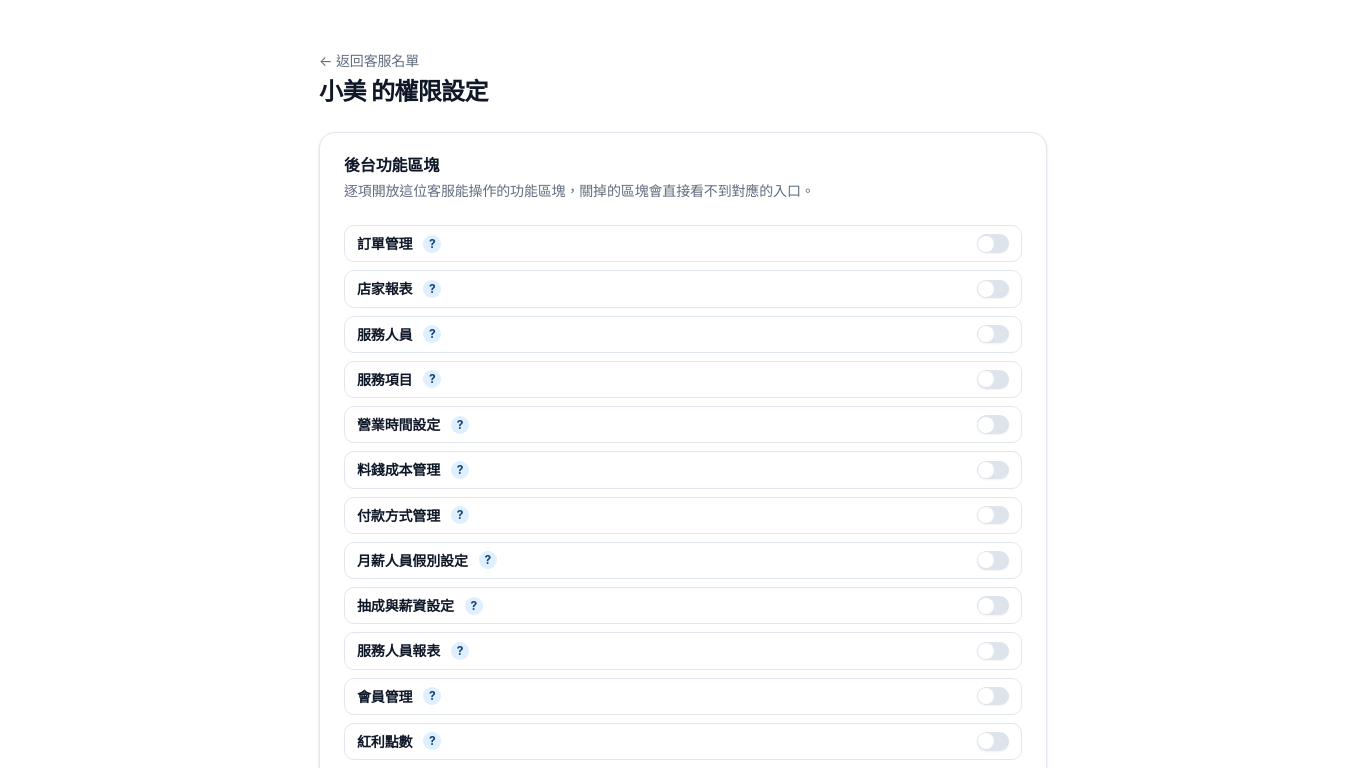
Test: 第 11 批 E:相依權限小卡窗 › ⑧ 點 `?` 不會切換開關、不會跳相依小卡窗
The width and height of the screenshot is (1366, 768).
Click the button named "說明：料錢成本管理".
click(460, 470)  # box x1=444 y1=454 x2=476 y2=486
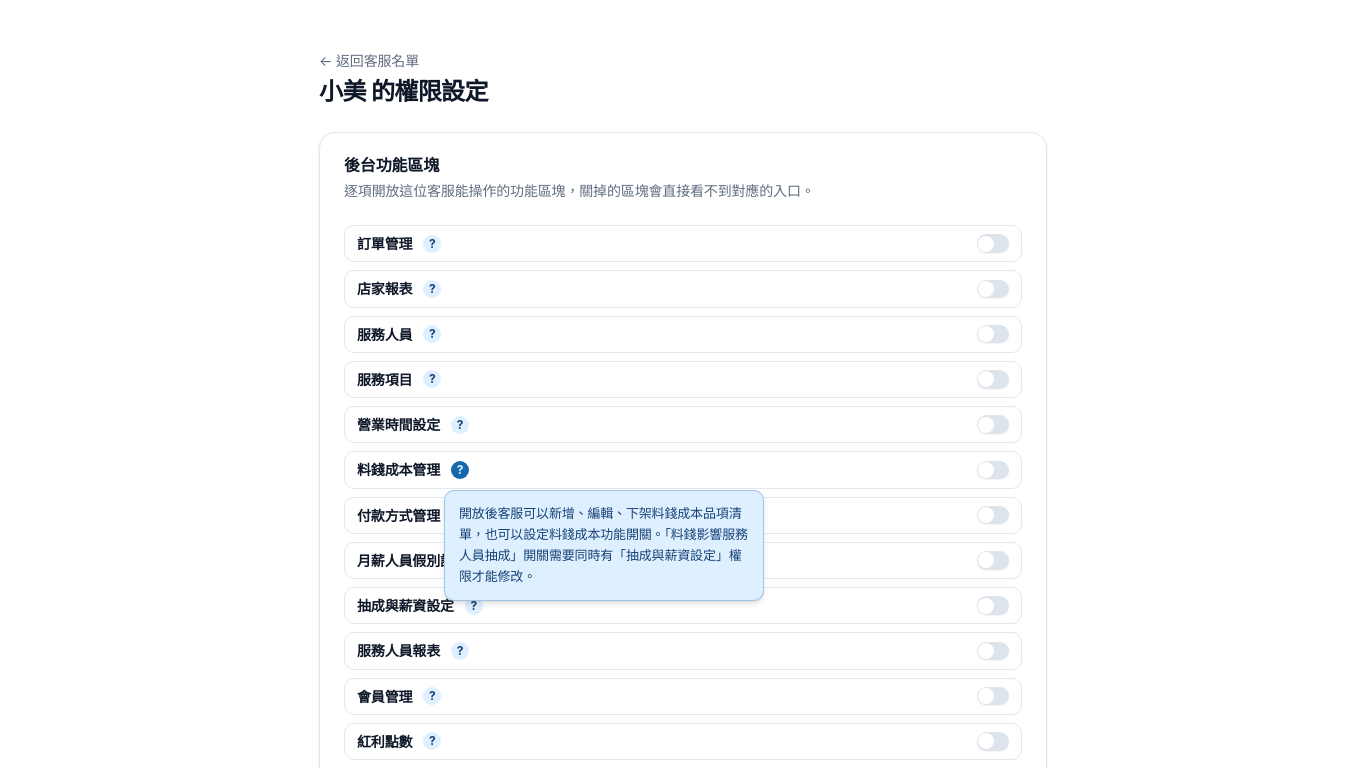
Now the dialog with test id "permission-help-popover" is shown, box x1=444 y1=490 x2=764 y2=600
